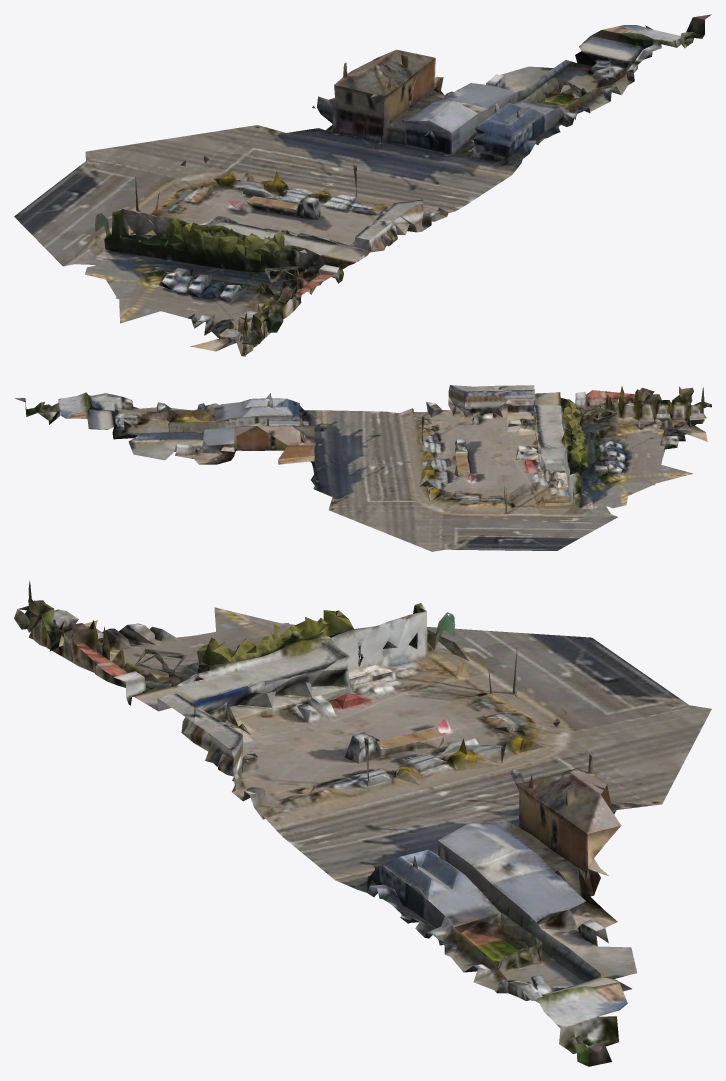
The model's file is Tile_012_001_L18.gltf.
3 views of the same model, one above another, from view 1: azimuth 30°, elevation 25°; view 2: azimuth 150°, elevation 25°; view 3: azimuth 270°, elevation 25° (orthographic). The views are drawn at different scales.
Parts seen in each view (by area): view 1: Tile_+012_+001_L18; view 2: Tile_+012_+001_L18; view 3: Tile_+012_+001_L18.
Part boxes in pixels (box(x1,y1,x2,y2)): Tile_+012_+001_L18: box(14, 14, 711, 356); Tile_+012_+001_L18: box(14, 385, 711, 551); Tile_+012_+001_L18: box(14, 580, 711, 1066).
Bounding box in the file's own units: 128 × 12.23 × 78.7.
Materials: 1 (1 with a texture image).
